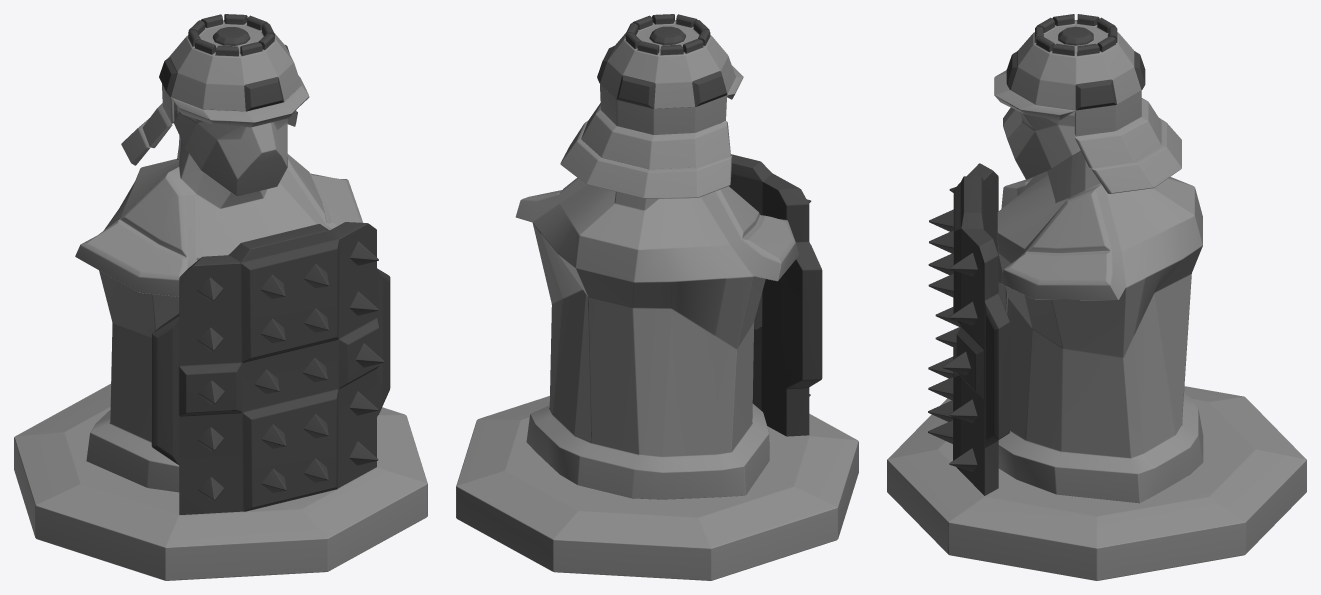
Rendered from samuray_r_w.glb.
The picture shows the model from 3 angles, left to right: view 1: azimuth 30°, elevation 25°; view 2: azimuth 150°, elevation 25°; view 3: azimuth 270°, elevation 25°; orthographic projection. The views are drawn at different scales.
Visible parts, largest first — view 1: b_B1_2; view 2: b_B1_2; view 3: b_B1_2.
Boxes of the visible parts, box(x1,y1,x2,y2) form: b_B1_2: box(14, 14, 427, 580); b_B1_2: box(456, 14, 858, 580); b_B1_2: box(887, 14, 1306, 580).
Bounding box in the file's own units: 1.65 × 2.04 × 1.65.
Materials: 1 (1 with a texture image).
